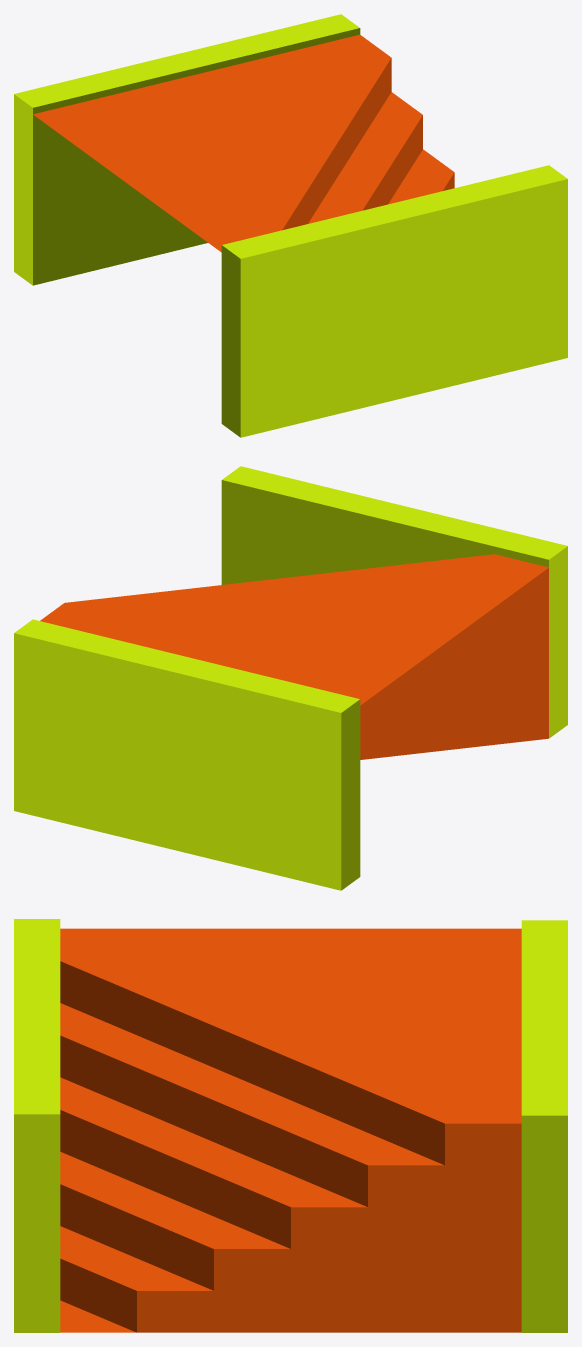
3 renders of one model, top to bottom at view 1: azimuth 30°, elevation 25°; view 2: azimuth 150°, elevation 25°; view 3: azimuth 270°, elevation 25°, orthographic. The views are drawn at different scales.
Parts seen in each view (by area): view 1: T_7_5_0; view 2: T_7_5_0; view 3: T_7_5_0.
Boxes of the visible parts, x1,y1,x2,y2 form: T_7_5_0: [14, 14, 567, 437]; T_7_5_0: [14, 466, 567, 890]; T_7_5_0: [14, 919, 567, 1332].
Bounding box in the file's own units: 99.81 × 52.14 × 120.
